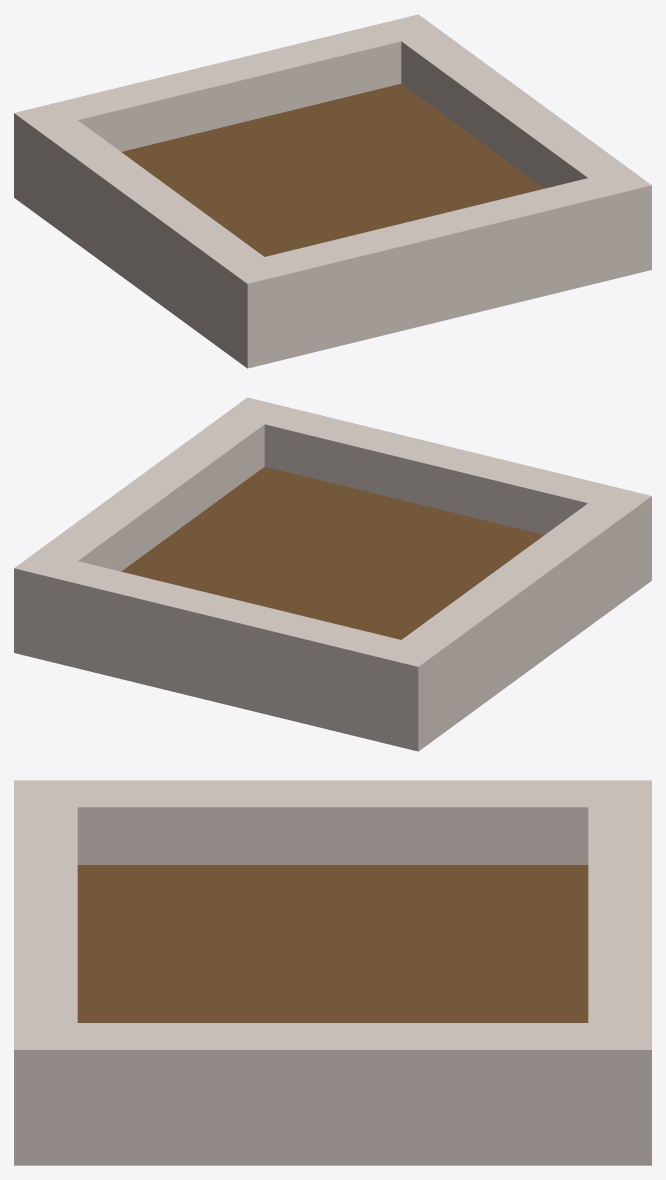
Rendered from roman_gardenplot_square.fbx.
The picture shows the model from 3 angles, top to bottom: view 1: azimuth 30°, elevation 25°; view 2: azimuth 150°, elevation 25°; view 3: azimuth 270°, elevation 25°; orthographic projection. The views are drawn at different scales.
Parts seen in each view (by area): view 1: Cube.062; view 2: Cube.062; view 3: Cube.062.
Part boxes in pixels (bbox=[...]): Cube.062: bbox=[14, 14, 651, 368]; Cube.062: bbox=[14, 397, 651, 751]; Cube.062: bbox=[14, 780, 651, 1165].
Size of the model in its own units: 1 by 0.2 by 1.
